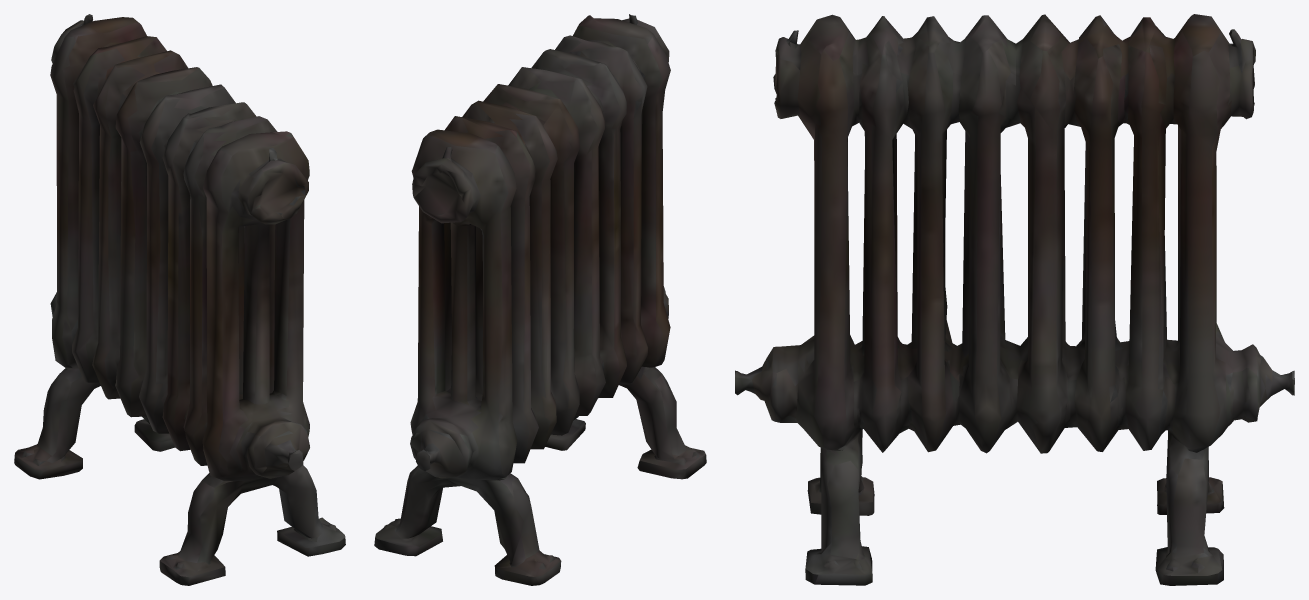
Rendered from rustic-iron-radiator-v001.glb.
3 renders of one model, left to right at view 1: azimuth 30°, elevation 25°; view 2: azimuth 150°, elevation 25°; view 3: azimuth 270°, elevation 25°, orthographic. The views are drawn at different scales.
Visible parts, largest first — view 1: rustic-iron-radiator; view 2: rustic-iron-radiator; view 3: rustic-iron-radiator.
Boxes of the visible parts, x1,y1,x2,y2 form: rustic-iron-radiator: (14,14,345,585); rustic-iron-radiator: (374,14,706,585); rustic-iron-radiator: (735,14,1294,585).
Size of the model in its own units: 0.3543 by 0.8491 by 0.8463.
Materials: 1 (1 with a texture image).
